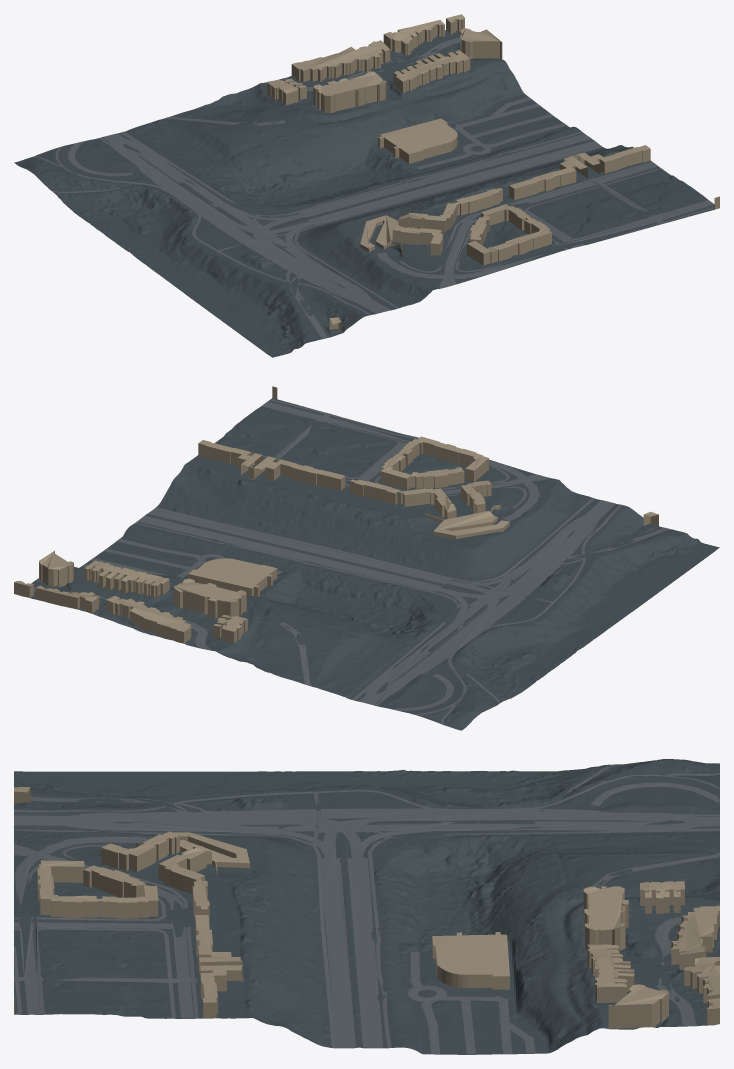
The model's file is epsg26910-1420-10870.lod0.glb.
3 renders of one model, top to bottom at view 1: azimuth 30°, elevation 25°; view 2: azimuth 150°, elevation 25°; view 3: azimuth 270°, elevation 25°, orthographic. The views are drawn at different scales.
Parts seen in each view (by area): view 1: epsg26910-1420-10870-lod0; view 2: epsg26910-1420-10870-lod0; view 3: epsg26910-1420-10870-lod0.
Part boxes in pixels (box(x1,y1,x2,y2)): epsg26910-1420-10870-lod0: box(14, 14, 719, 357); epsg26910-1420-10870-lod0: box(14, 386, 719, 730); epsg26910-1420-10870-lod0: box(14, 759, 719, 1054).
Bounding box in the file's own units: 384 × 42.93 × 384.
